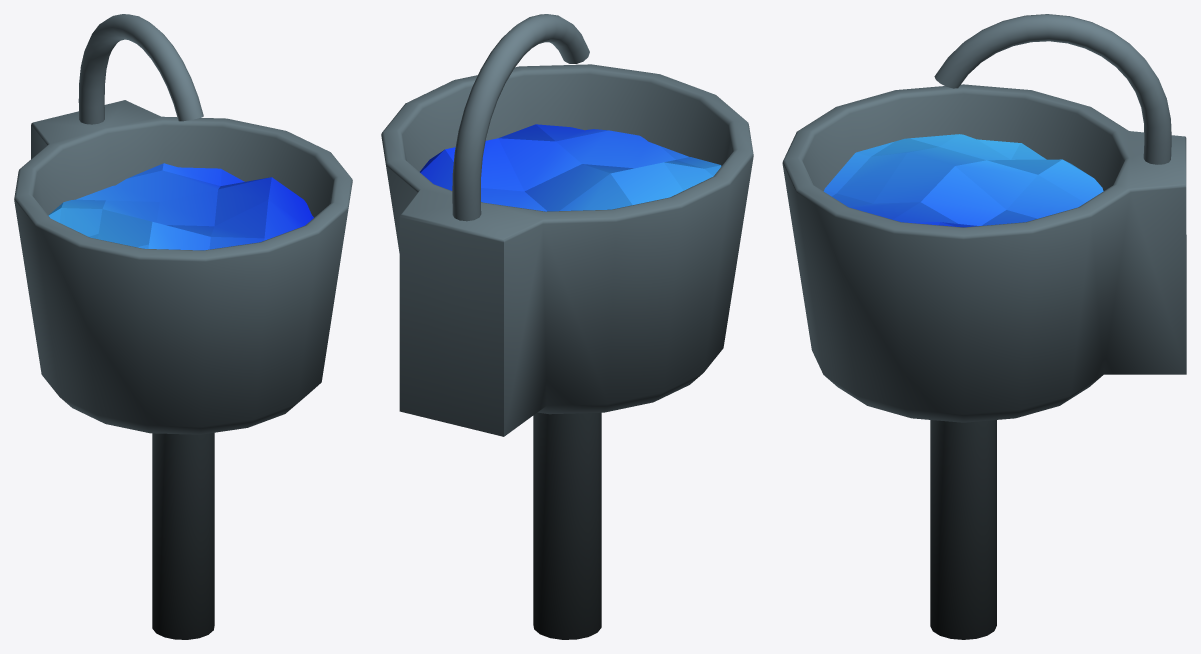
File: SM_musluk.fbx
3 renders of one model, left to right at view 1: azimuth 30°, elevation 25°; view 2: azimuth 150°, elevation 25°; view 3: azimuth 270°, elevation 25°, orthographic. The views are drawn at different scales.
Visible parts, largest first — view 1: Cylinder.003; view 2: Cylinder.003; view 3: Cylinder.003.
Boxes of the visible parts, x1,y1,x2,y2 form: Cylinder.003: (14, 14, 352, 639); Cylinder.003: (381, 14, 753, 639); Cylinder.003: (782, 14, 1186, 639).
Size of the model in its own units: 86.01 by 160 by 95.95.
